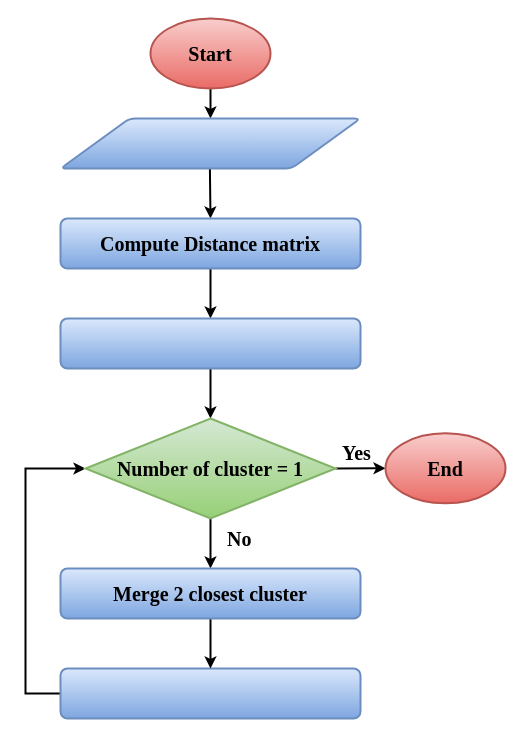
Image size: 523x736. Some labels were removed from this diagram. The shapes that lost their labels are listed below. From the top down, each one's box as (x1, y1, x2, y2) in pixels, then its label:
(59, 117, 361, 169): Objects and their measured features
(59, 317, 361, 369): Set object as Cluster
(59, 667, 361, 719): Update distance matrix
